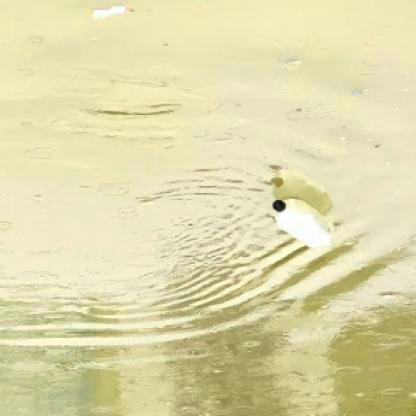Plastic: (269, 196, 339, 252)
